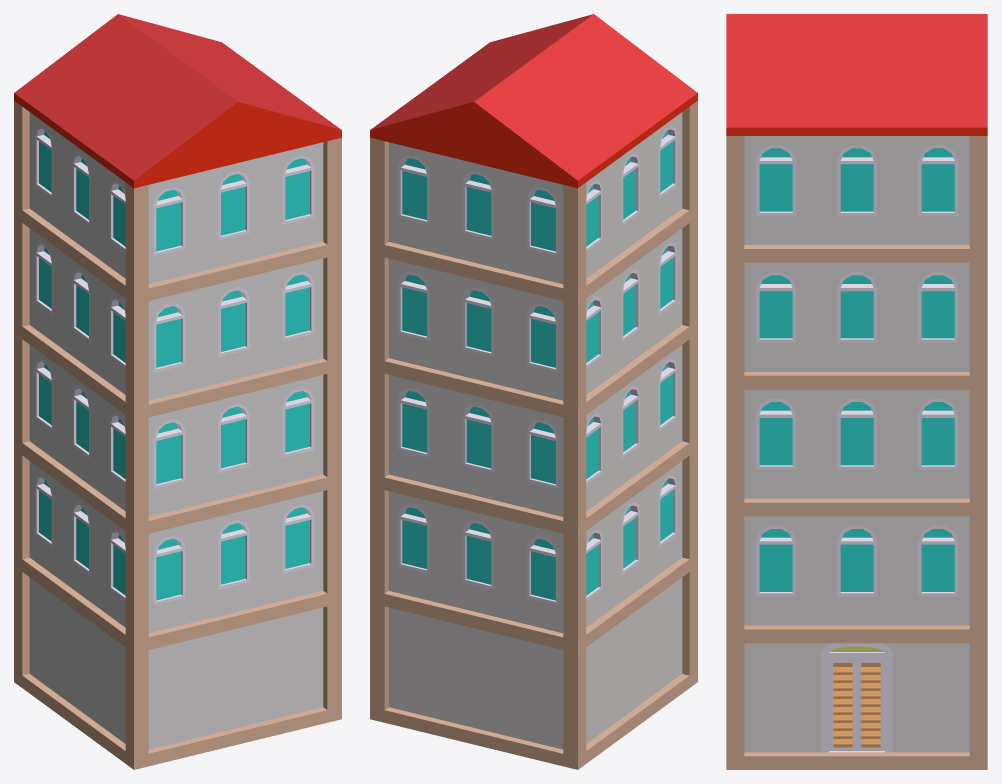
File: building3.fbx
The picture shows the model from 3 angles, left to right: view 1: azimuth 30°, elevation 25°; view 2: azimuth 150°, elevation 25°; view 3: azimuth 270°, elevation 25°; orthographic projection. The views are drawn at different scales.
Visible parts, largest first — view 1: building_004; view 2: building_004; view 3: building_004.
Part boxes in pixels (left/top/right/bottom): building_004: left=14, top=14, right=341, bottom=769; building_004: left=370, top=14, right=697, bottom=769; building_004: left=726, top=14, right=987, bottom=769.
Bounding box in the file's own units: 4.3 × 12.71 × 4.3.
